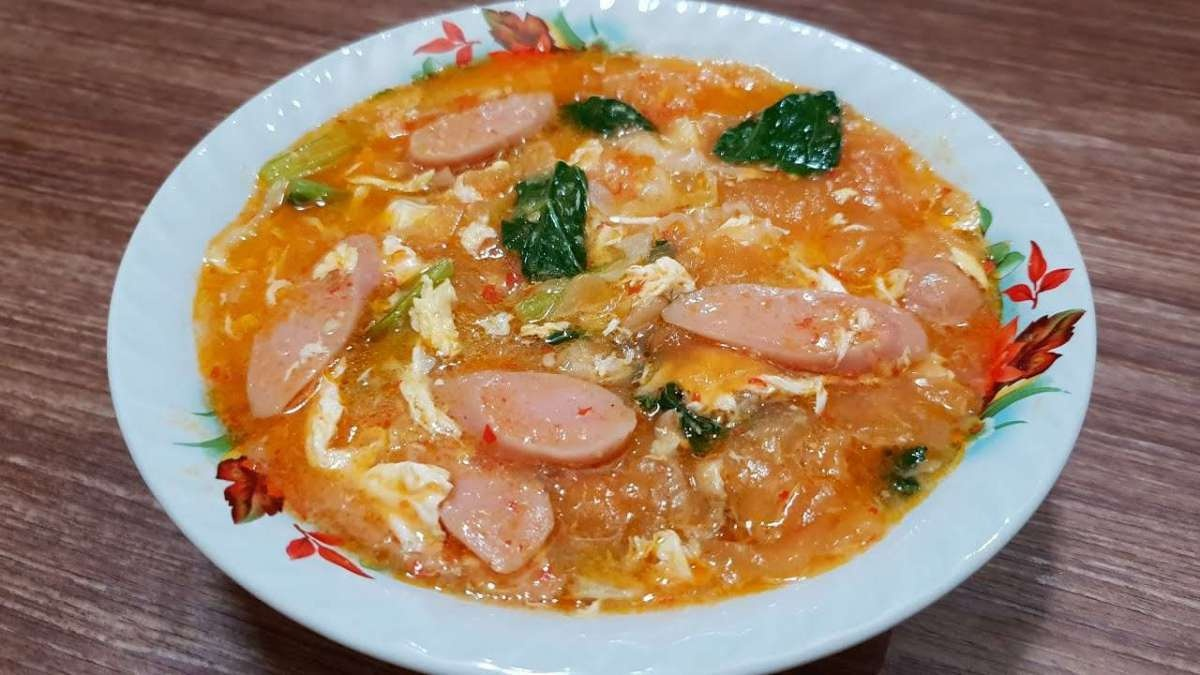seblak: (192, 54, 997, 615)
